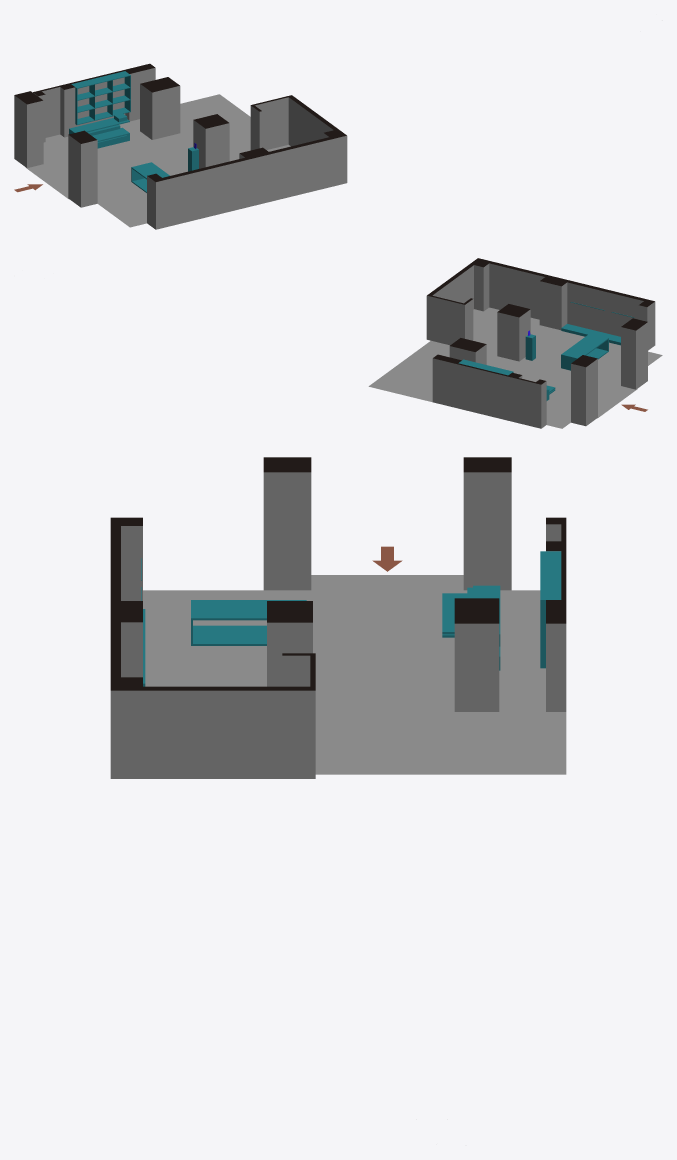
The model's file is Zegna_Milano_ModelRef 2.FBX.
3 renders of one model, top to bottom at view 1: azimuth 30°, elevation 25°; view 2: azimuth 150°, elevation 25°; view 3: azimuth 270°, elevation 25°, orthographic. The views are drawn at different scales.
Visible parts, largest first — view 1: boxmodel, Colonne ingresso, Scaffale molto di design, SLG Table, Concept Table; view 2: boxmodel, Colonne ingresso, Concept Table, Mensola molto di design, Scaffale molto di design, Totem; view 3: boxmodel, Colonne ingresso, Concept Table, Scaffale molto di design, SLG Table.
Boxes of the visible parts, <box> form: boxmodel: <box>25,63,347,229</box>; Colonne ingresso: <box>14,91,97,207</box>; Scaffale molto di design: <box>71,71,130,124</box>; SLG Table: <box>69,113,129,148</box>; Concept Table: <box>131,162,169,192</box>; boxmodel: <box>368,258,662,428</box>; Colonne ingresso: <box>571,318,647,426</box>; Concept Table: <box>561,333,608,370</box>; Mensola molto di design: <box>561,324,620,345</box>; Scaffale molto di design: <box>458,359,513,375</box>; Totem: <box>525,334,535,360</box>; boxmodel: <box>110,517,566,778</box>; Colonne ingresso: <box>263,457,511,590</box>; Concept Table: <box>191,600,306,645</box>; Scaffale molto di design: <box>540,551,561,668</box>; SLG Table: <box>442,585,500,670</box>.
Bounding box in the file's own units: 3261 × 301 × 1050.
